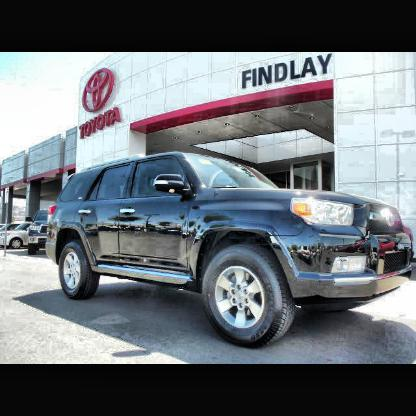Toyota 4Runner SUV 2012: (43, 151, 416, 335)
